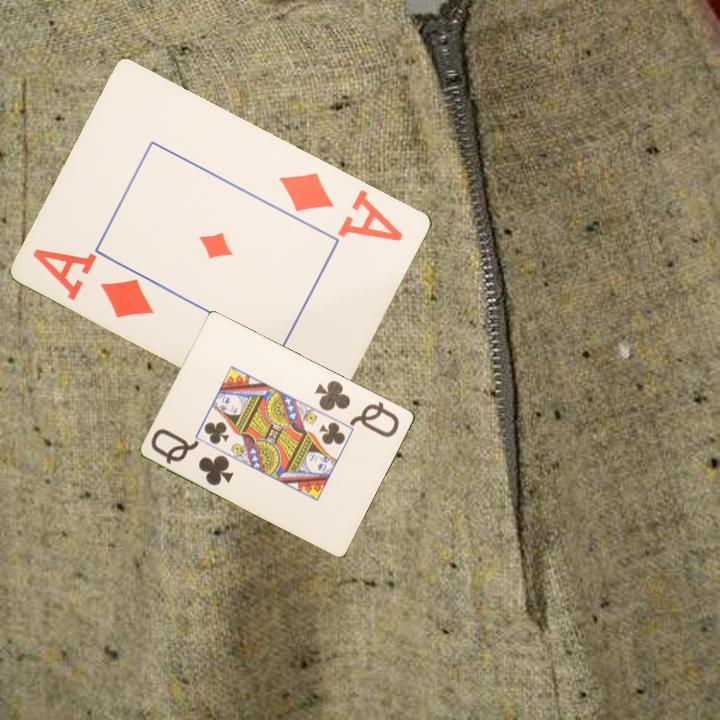Ad: (276, 168, 407, 245), (30, 244, 158, 321)
Qc: (311, 376, 403, 440), (148, 425, 237, 489)
